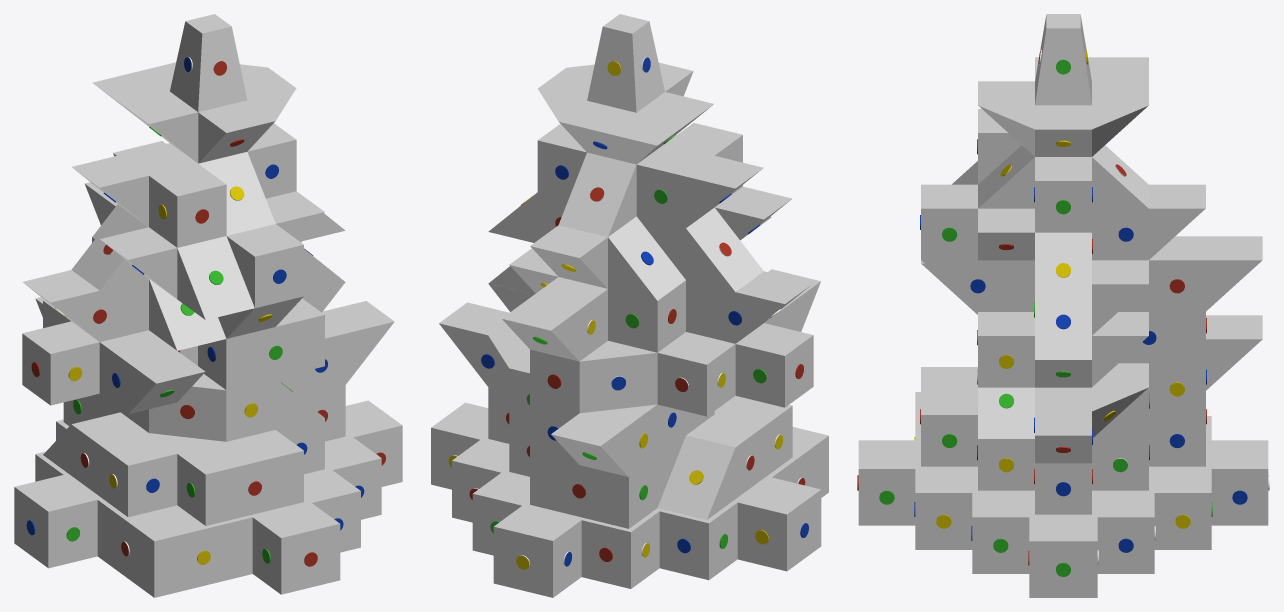
The model's file is Polkup3d.glb.
3 renders of one model, left to right at view 1: azimuth 30°, elevation 25°; view 2: azimuth 150°, elevation 25°; view 3: azimuth 270°, elevation 25°, orthographic.
Parts seen in each view (by area): view 1: MATT.009, MATT.123, MATT.004N4, MATT.006N6, MATT.007N7, MATT.125, MATT.005N5, MATT.008N8, MATT.111; view 2: MATT.009, MATT.004N4, MATT.123, MATT.006N6, MATT.005N5, MATT.007N7, MATT.125, MATT.008N8, MATT.111; view 3: MATT.009, MATT.006N6, MATT.005N5, MATT.123, MATT.125, MATT.004N4, MATT.007N7, MATT.008N8, MATT.111.
Boxes of the visible parts, bbox=[...] form: MATT.009: bbox=[14, 400, 402, 597]; MATT.123: bbox=[43, 385, 345, 525]; MATT.004N4: bbox=[22, 282, 344, 414]; MATT.006N6: bbox=[71, 141, 345, 319]; MATT.007N7: bbox=[72, 123, 296, 247]; MATT.125: bbox=[35, 297, 394, 441]; MATT.005N5: bbox=[23, 182, 345, 350]; MATT.008N8: bbox=[92, 62, 296, 163]; MATT.111: bbox=[170, 14, 247, 112]; MATT.009: bbox=[431, 402, 828, 597]; MATT.004N4: bbox=[488, 269, 820, 416]; MATT.123: bbox=[488, 387, 792, 528]; MATT.006N6: bbox=[488, 186, 791, 300]; MATT.005N5: bbox=[488, 248, 812, 361]; MATT.007N7: bbox=[537, 123, 763, 236]; MATT.125: bbox=[439, 302, 714, 476]; MATT.008N8: bbox=[538, 62, 713, 164]; MATT.111: bbox=[587, 14, 664, 112]; MATT.009: bbox=[857, 392, 1269, 597]; MATT.006N6: bbox=[920, 161, 1205, 308]; MATT.005N5: bbox=[921, 236, 1262, 359]; MATT.123: bbox=[920, 367, 1206, 514]; MATT.125: bbox=[977, 315, 1262, 463]; MATT.004N4: bbox=[921, 260, 1206, 387]; MATT.007N7: bbox=[977, 109, 1148, 232]; MATT.008N8: bbox=[978, 57, 1148, 156]; MATT.111: bbox=[1035, 14, 1091, 105].
Bounding box in the file's own units: 36.2 × 47.5 × 36.2.
